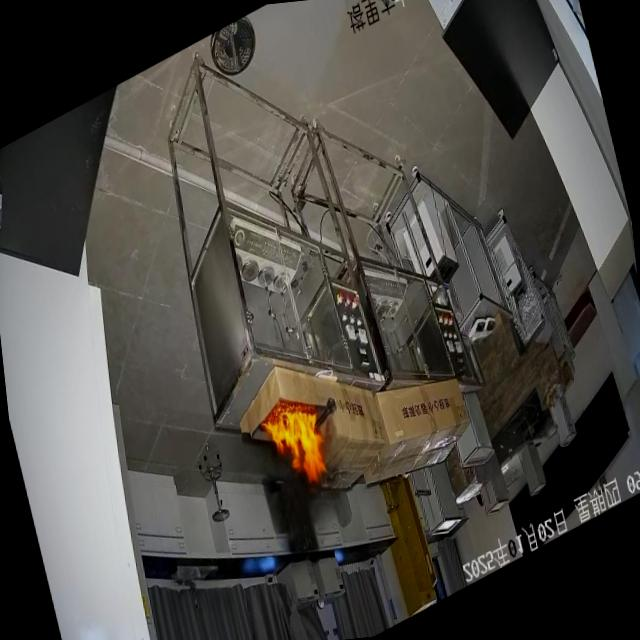fire: (245, 351, 362, 536)
